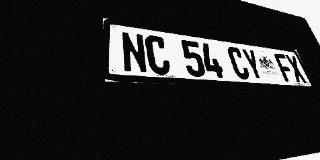4: (199, 42, 225, 78)
5: (180, 40, 207, 77)
C: (144, 34, 172, 75), (226, 46, 251, 80)
F: (273, 53, 297, 82)
N: (120, 31, 149, 74)
X: (284, 54, 307, 83)
Y: (240, 48, 265, 80)
